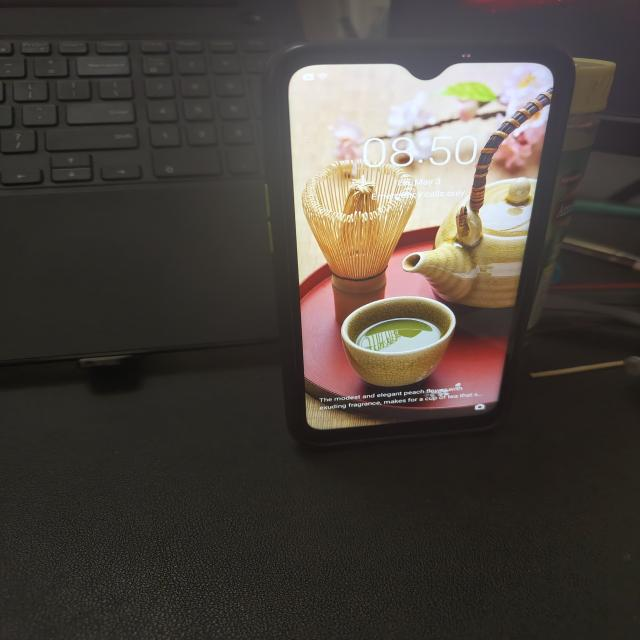mobile: (271, 42, 562, 455)
